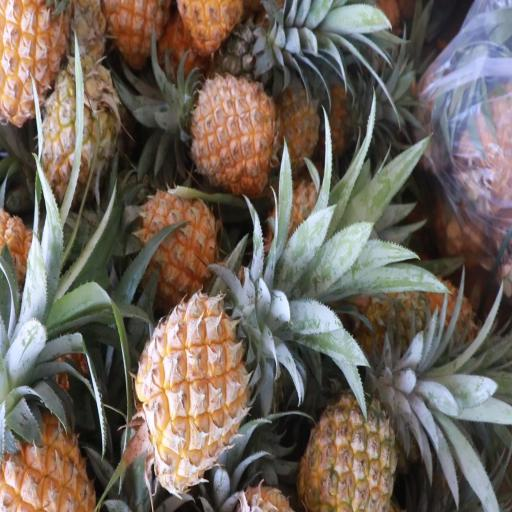------------------------------: (301, 387, 398, 512), (38, 72, 117, 214)
Pineapple - v8 v1: (136, 298, 250, 477), (0, 397, 95, 512), (188, 78, 273, 190), (137, 188, 217, 296), (0, 0, 71, 120)
